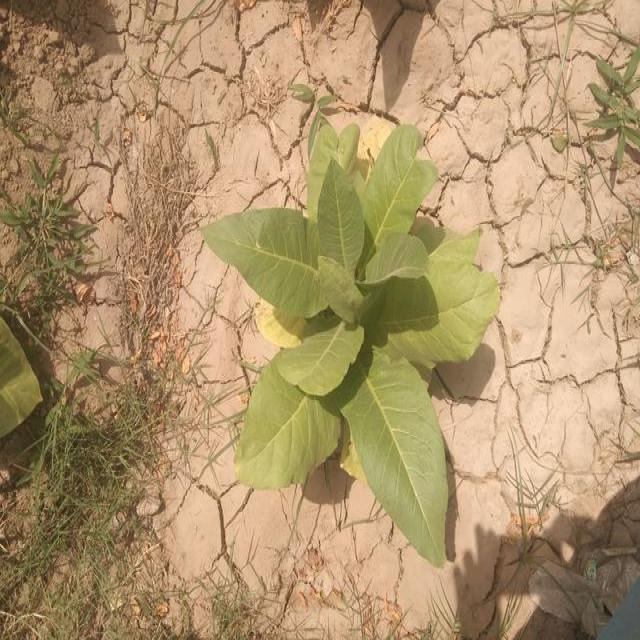crop: (208, 116, 482, 567)
